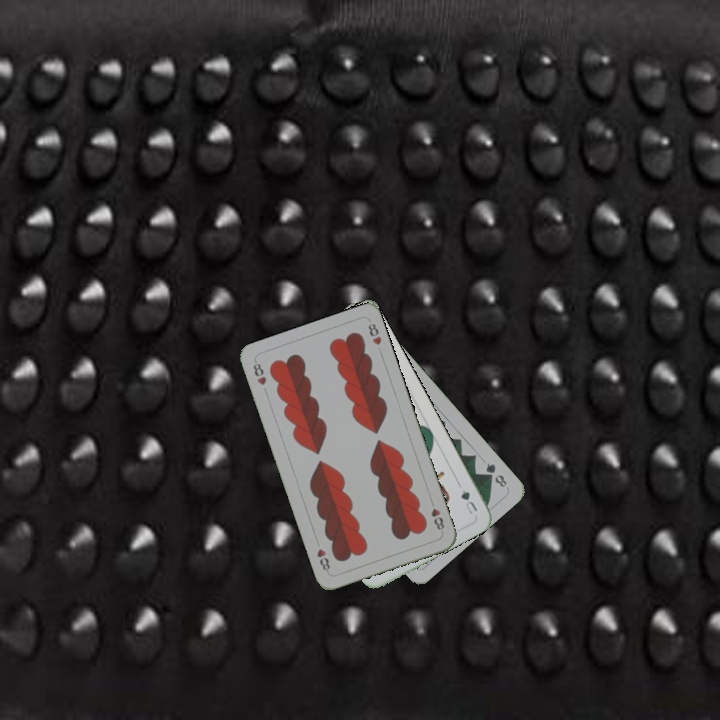G8: (481, 459, 509, 490)
GU: (457, 485, 480, 517)
H8: (426, 496, 447, 533), (249, 357, 269, 388)
